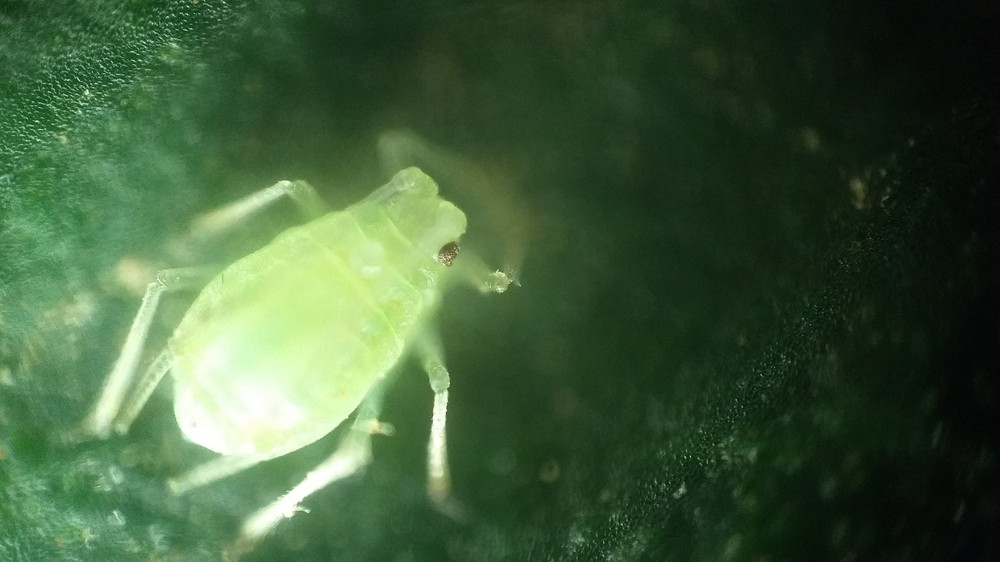Pulgon: (74, 111, 570, 545)
